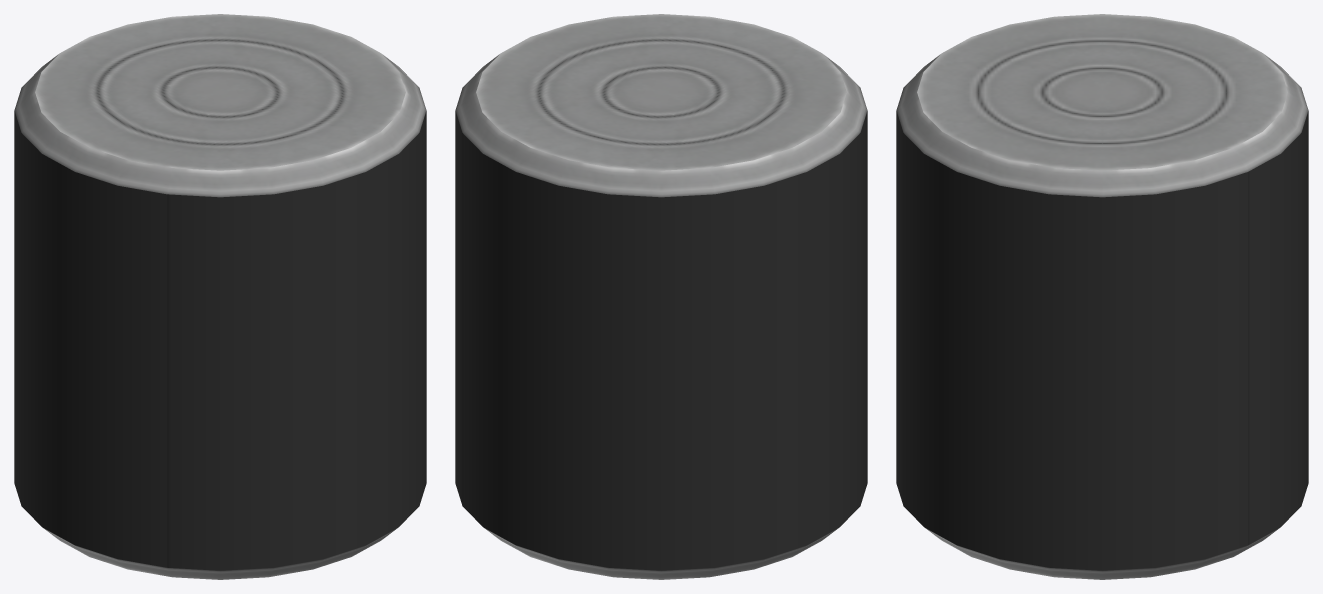
File: Knight_FuelTank_0_4.obj
3 views of the same model, side by side, from view 1: azimuth 30°, elevation 25°; view 2: azimuth 150°, elevation 25°; view 3: azimuth 270°, elevation 25° (orthographic).
Parts seen in each view (by area): view 1: Knight_FuelTank_0_4; view 2: Knight_FuelTank_0_4; view 3: Knight_FuelTank_0_4.
Boxes of the visible parts, x1,y1,x2,y2 form: Knight_FuelTank_0_4: (14, 14, 426, 579); Knight_FuelTank_0_4: (455, 14, 867, 579); Knight_FuelTank_0_4: (896, 14, 1308, 579).
Size of the model in its own units: 0.625 by 0.685 by 0.625.
